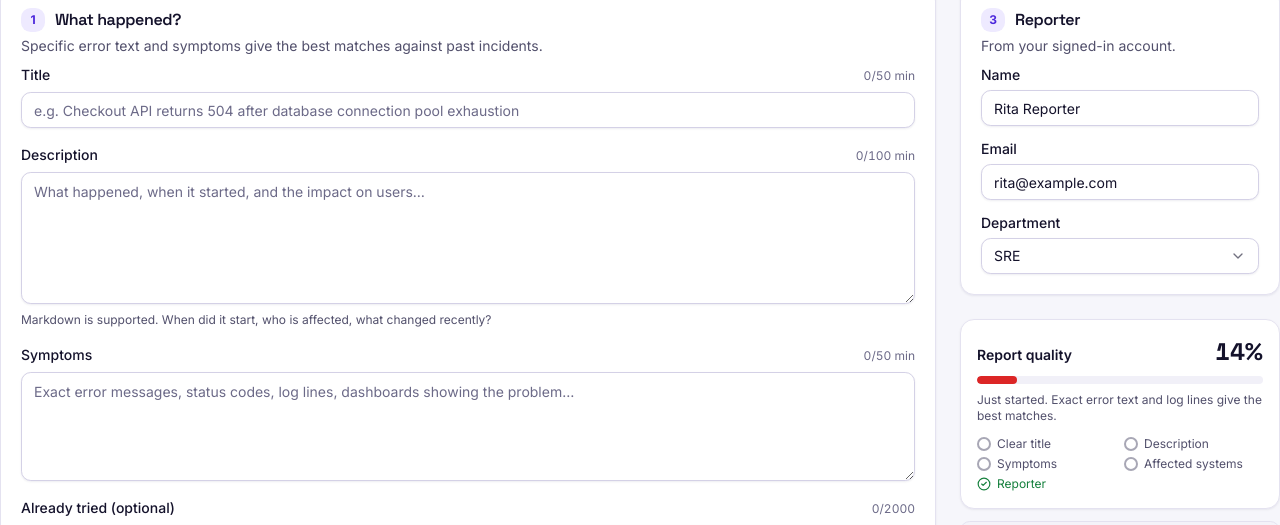
IncidentForm › keeps submit disabled and lists what is still needed until every field is valid
Step 1. Replace the text in the field labelled "Title" with "Checkout API returns 504 when the database connection pool is exhausted" → x=468, y=110, box [21,92,915,128]
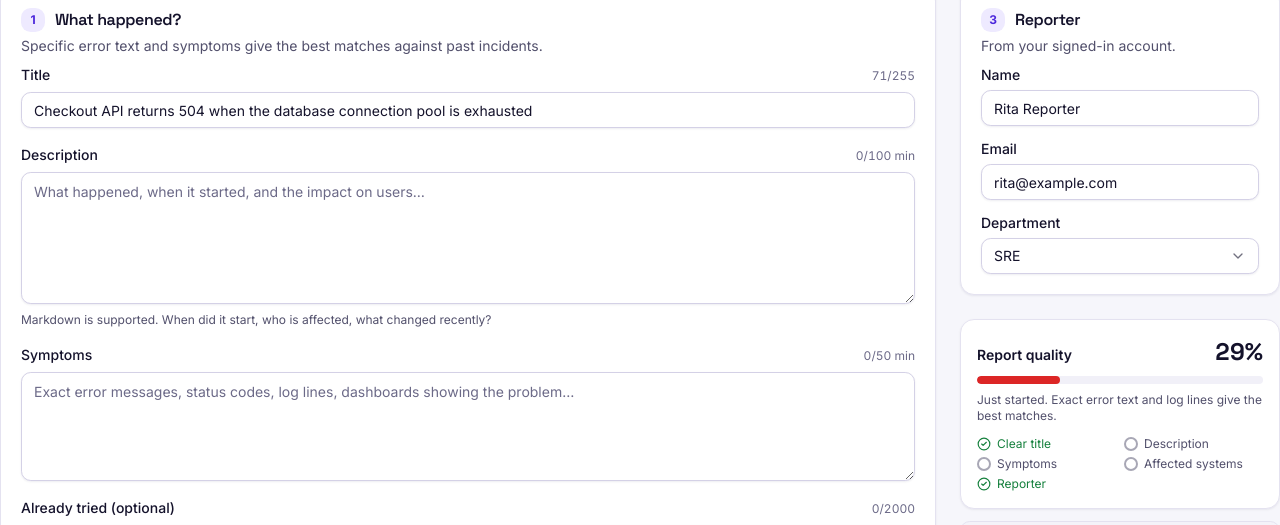
Step 2. Type "The checkout service started timing out for most requests. The Postgres connection pool is pinned at its maximum while query latency stays low." into the text box labelled "Description" → x=468, y=238, box [21,172,915,304]
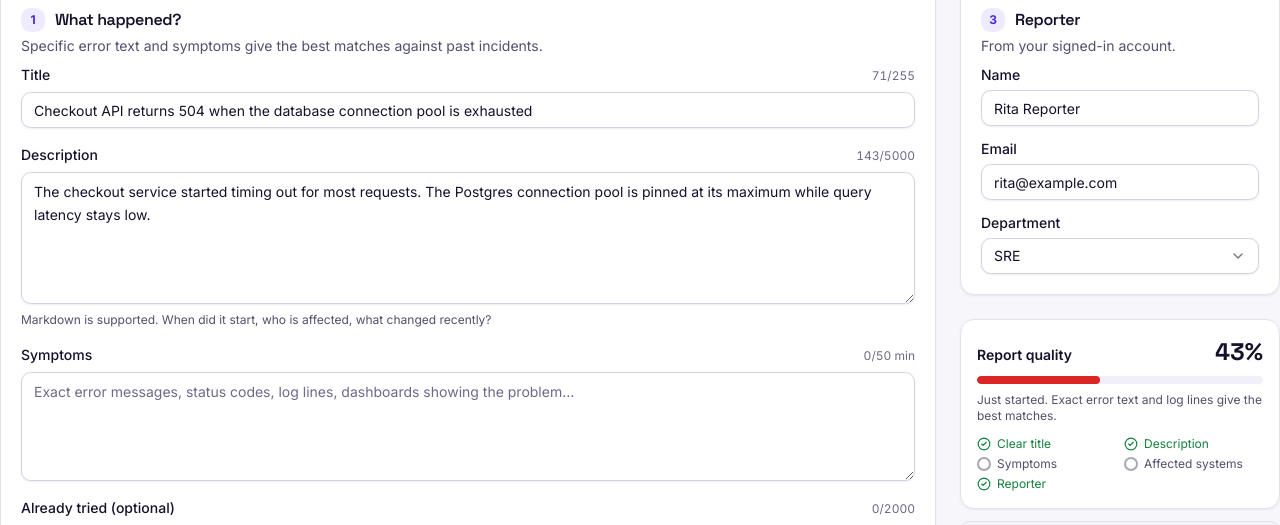
Step 3. Replace the text in the text box labelled "Symptoms" with "HTTP 504 from /api/checkout after 30s. Logs: TimeoutError connection pool exhausted (max 20)." → x=468, y=426, box [21,372,915,481]
(page scrolled)
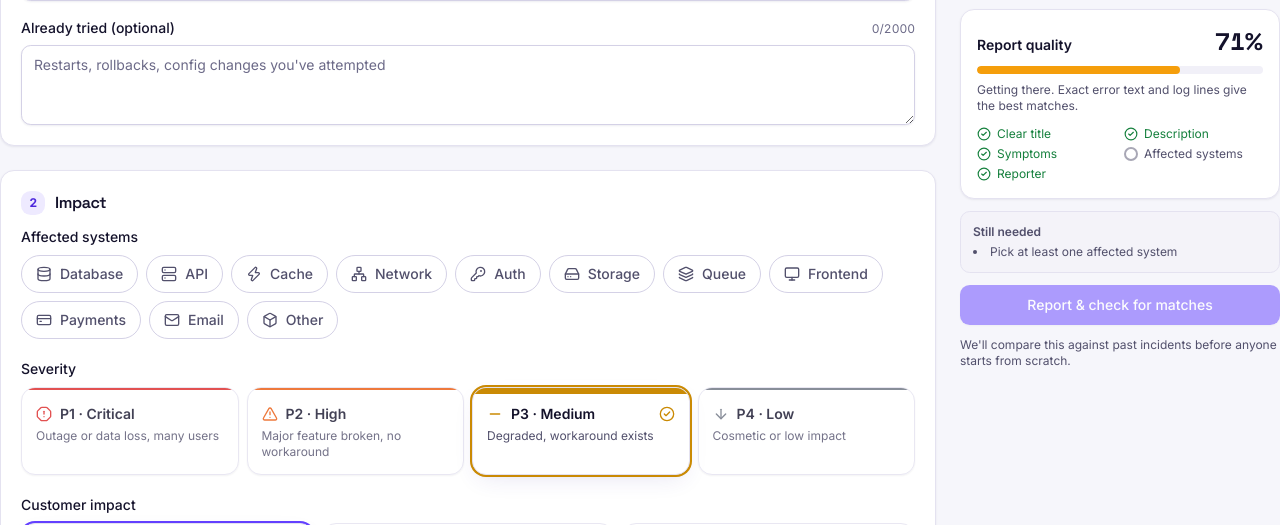
Expected: the button "Report & check for matches" is disabled, [960,285,1279,325]
Now the list items read "Pick at least one affected system", in this order, box [990,244,1177,259]
Step 4. Click the button "Database" → x=80, y=274, box [21,255,138,293]
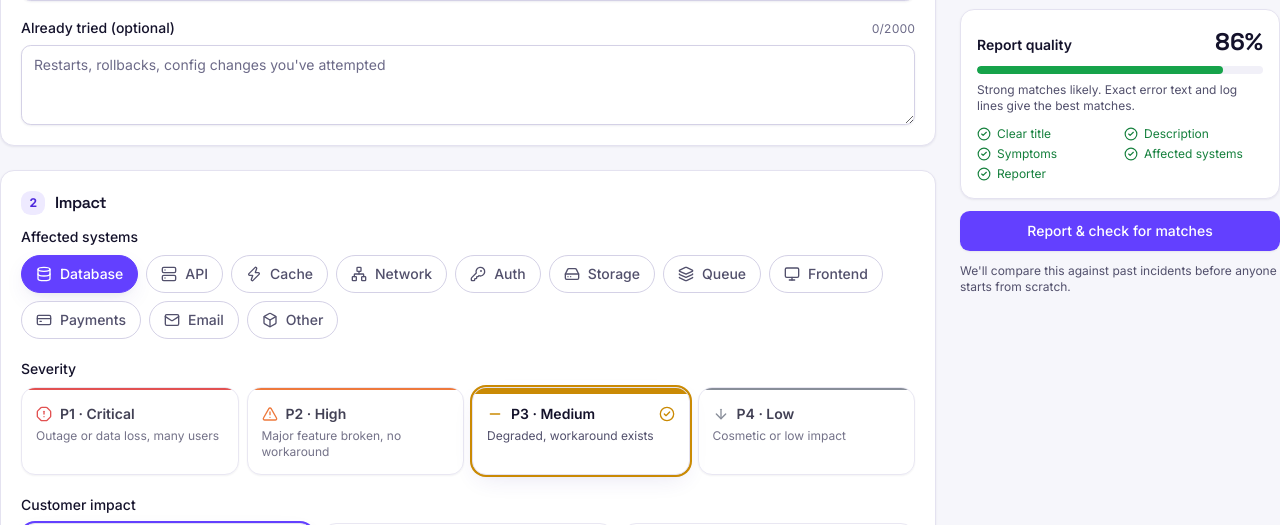
Now the button "Report & check for matches" is enabled, box [960,211,1279,251]
Now the text "Still needed" is gone
